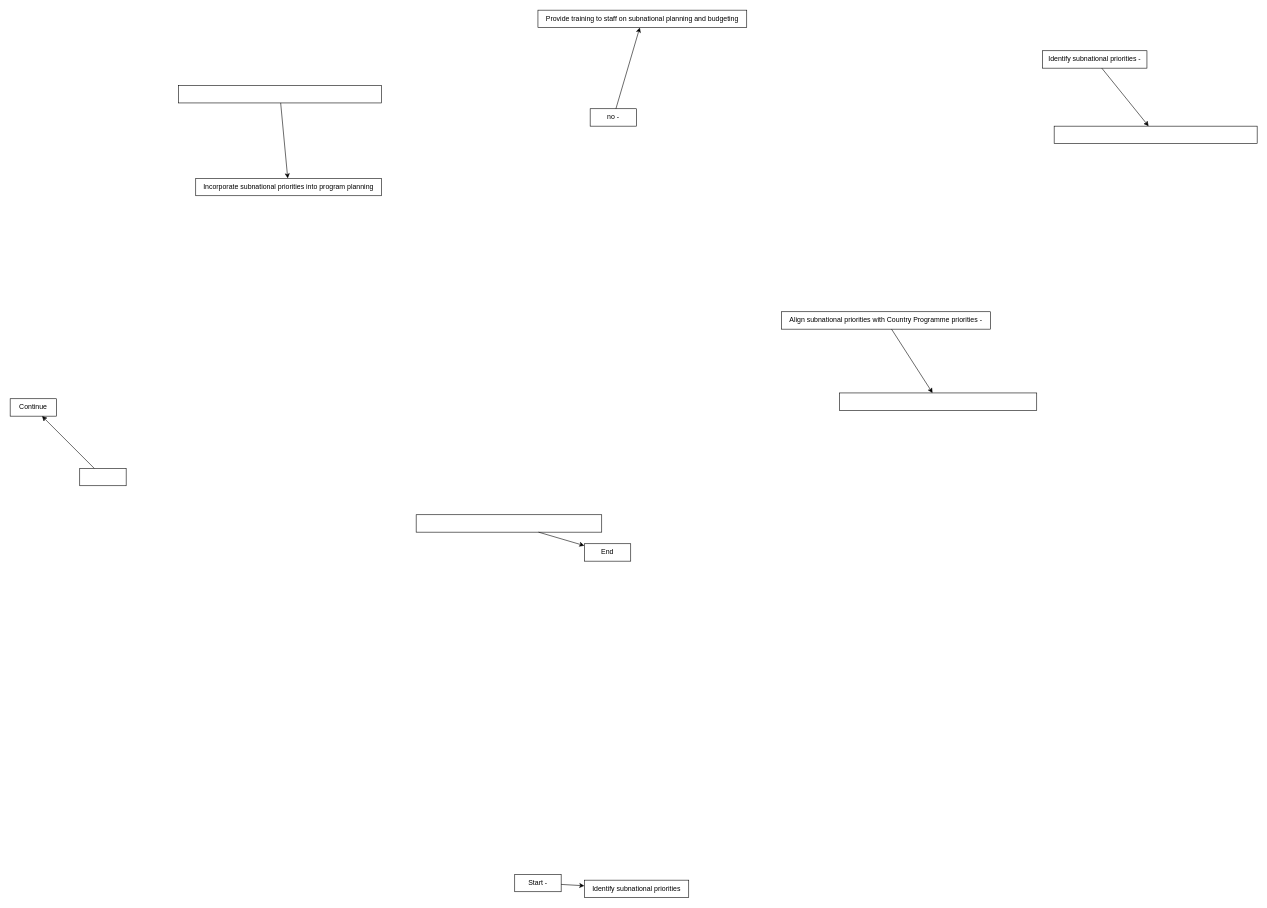
The diagram is 1267 pixels wide and 908 high, and some of its shapes have lost their labels. Each missing label, with the centre of its shape:
Align subnational priorities with Country Programme priorities: the point at 1155,135
Develop or adapt systems, procedures, tools, and capacities: the point at 938,401
Develop or adapt systems, procedures, tools, and capacities -: the point at 279,94
Incorporate subnational priorities into program planning -: the point at 509,523
yes -: the point at 102,477
